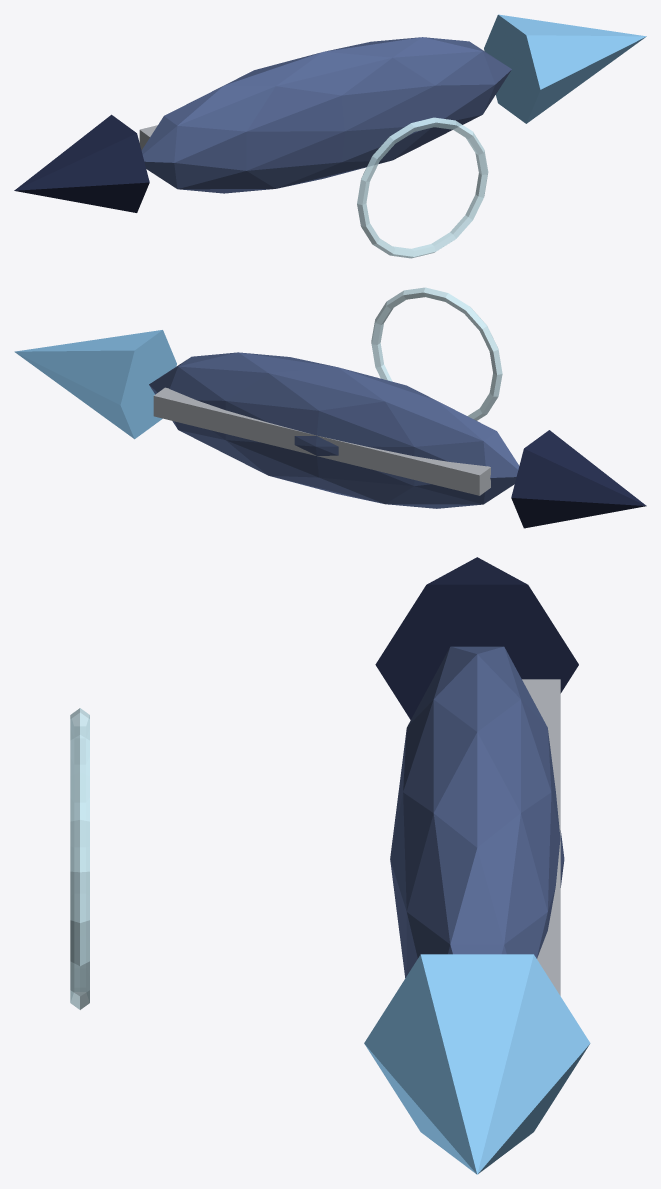
Rendered from 05_skyship_hull.glb.
3 views of the same model, one above another, from view 1: azimuth 30°, elevation 25°; view 2: azimuth 150°, elevation 25°; view 3: azimuth 270°, elevation 25° (orthographic). The views are drawn at different scales.
Visible parts, largest first — view 1: hull_low_poly, bow_upgrade, stern_fin, size_class_ring; view 2: hull_low_poly, bow_upgrade, keel_plate, stern_fin, size_class_ring; view 3: hull_low_poly, bow_upgrade, stern_fin, size_class_ring, keel_plate.
Boxes of the visible parts, <box> form: hull_low_poly: <box>141,37,511,193</box>; bow_upgrade: <box>484,14,646,123</box>; stern_fin: <box>14,114,149,212</box>; size_class_ring: <box>357,117,488,258</box>; hull_low_poly: <box>149,352,519,508</box>; bow_upgrade: <box>14,330,176,439</box>; keel_plate: <box>153,387,490,495</box>; stern_fin: <box>511,430,646,528</box>; size_class_ring: <box>371,287,502,420</box>; hull_low_poly: <box>390,646,564,977</box>; bow_upgrade: <box>364,954,590,1174</box>; stern_fin: <box>375,557,578,719</box>; size_class_ring: <box>70,708,89,1009</box>; keel_plate: <box>522,679,560,995</box>.
Size of the model in its own units: 7.23 by 1.48 by 2.57.
